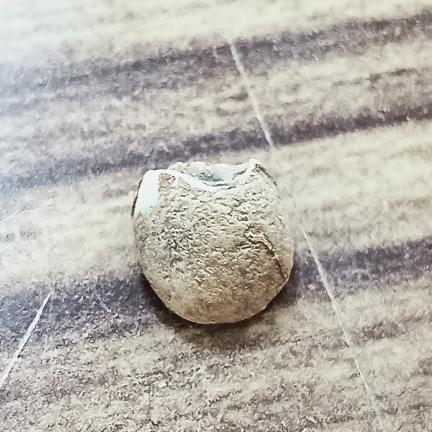cut: (132, 159, 293, 324)
